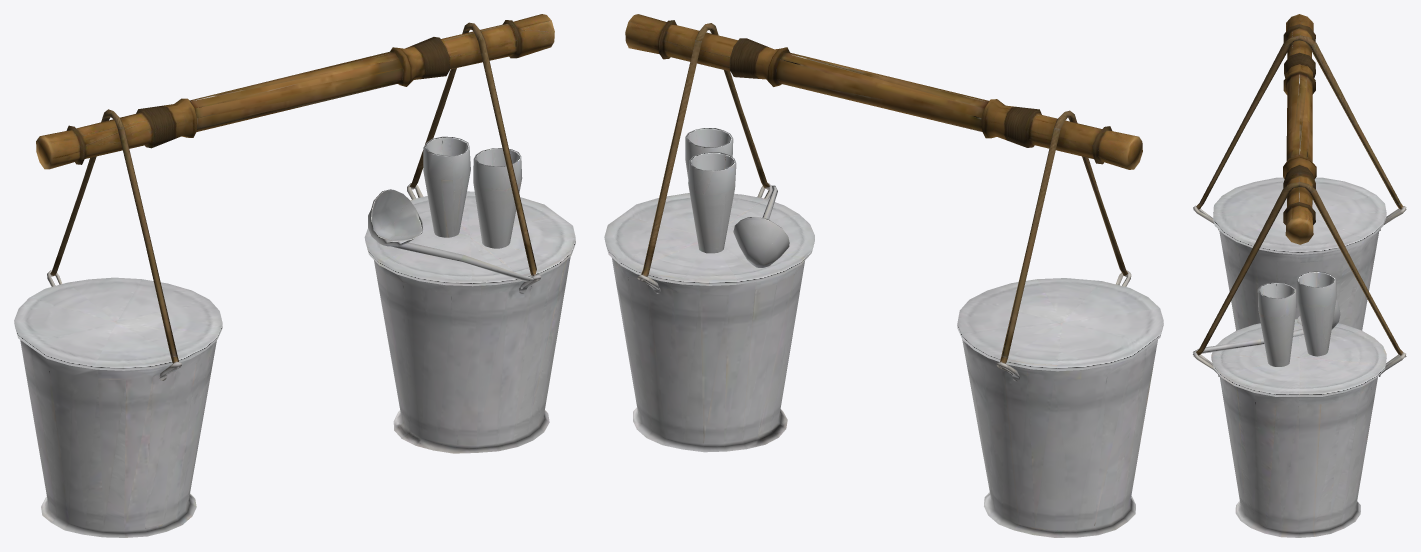
Rendered from taho-pails.glb.
The picture shows the model from 3 angles, left to right: view 1: azimuth 30°, elevation 25°; view 2: azimuth 150°, elevation 25°; view 3: azimuth 270°, elevation 25°; orthographic projection. The views are drawn at different scales.
Visible parts, largest first — view 1: geometry_0; view 2: geometry_0; view 3: geometry_0.
Part boxes in pixels (bbox=[...]): geometry_0: bbox=[14, 14, 575, 537]; geometry_0: bbox=[604, 14, 1163, 537]; geometry_0: bbox=[1193, 14, 1406, 537].
Bounding box in the file's own units: 1 × 0.7218 × 0.4245.
1 material, 1 textured.
